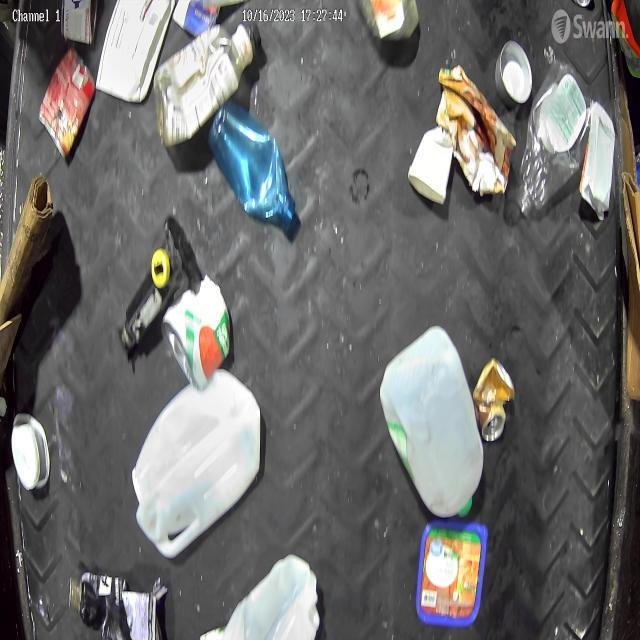can: (166, 272, 235, 382), (42, 44, 100, 160), (472, 342, 517, 442), (11, 406, 54, 494)
milk_jug: (132, 372, 264, 556), (376, 323, 484, 517), (200, 544, 321, 640)
